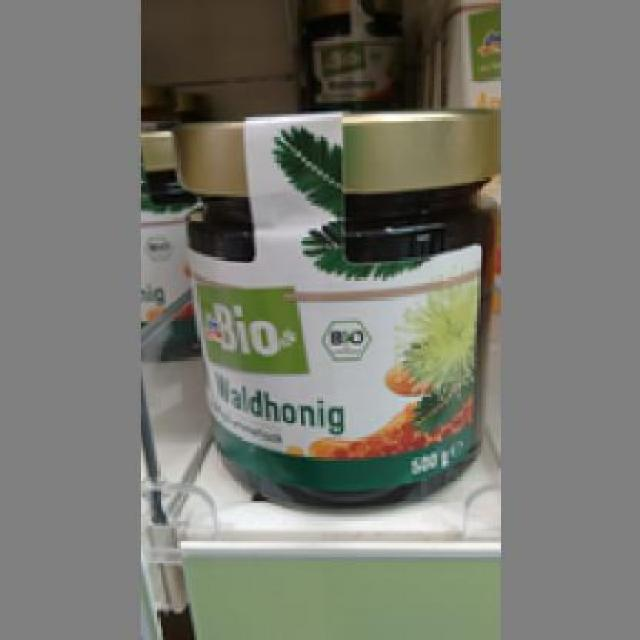Honey: (162, 106, 508, 500)
